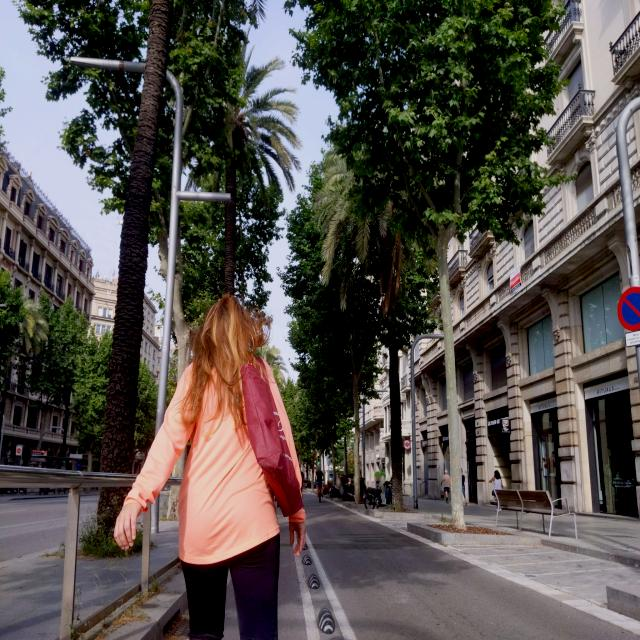bike: (365, 481, 394, 512), (342, 483, 368, 502), (329, 481, 349, 498), (314, 480, 326, 502)
